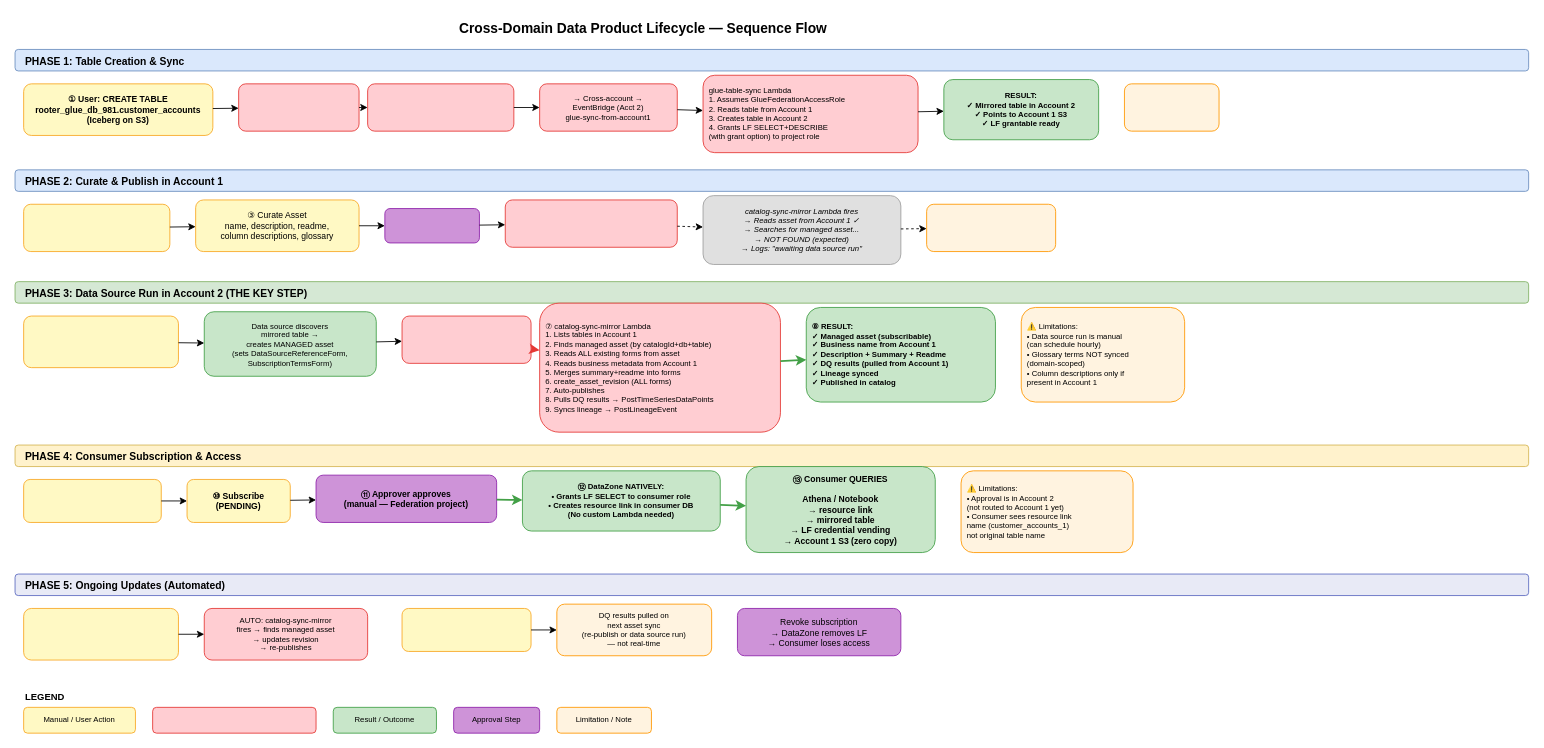
Image size: 1544x748. Some labels were removed from this diagram. Each missing label, with the centre of its shape:
Automated (EventBridge/Lambda): point 234,719
CloudTrail-based event (Glue has no native EB events for table ops — ~30s delay): point 298,107
DQ job completes in Account 1: point 466,629
EventBridge (Acct 1) glue-table-sync-to-account2 matches CreateTable: point 440,107
Native EventBridge event (instant — no CloudTrail) "Asset Added To Catalog": point 590,223
Native EventBridge event (instant) "Data Source Run Succeeded": point 466,339
Update asset in Account 1 (change desc, add column, re-publish): point 100,634
② Run Data Source (Account 1) discovers table → asset: point 96,227
④ PUBLISH: point 431,225
⑥ Run Data Source (Account 2 — MANUAL) Federation Project: point 100,341
⑨ Consumer discovers asset in catalog: point 92,500
⚠️ First-time only: Lambda can't sync yet. Resolves in Phase 3.: point 991,227
⚠️ Limitation: ~30s latency (CloudTrail): point 1171,107
